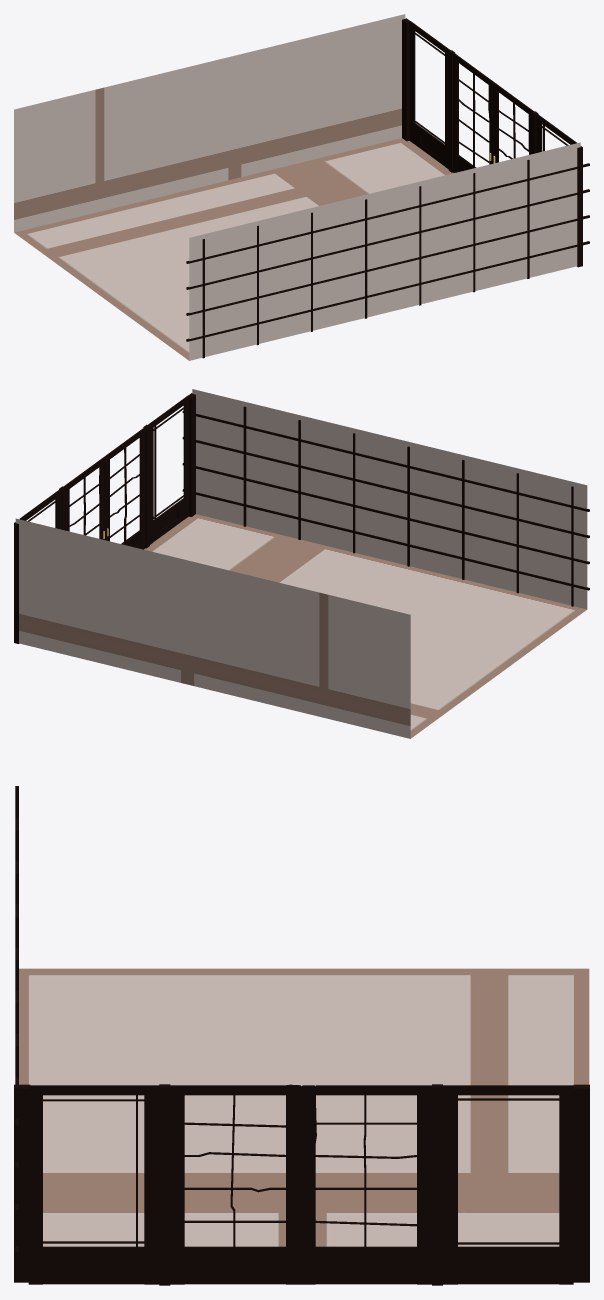
Rendered from wallsJ.FBX.
3 renders of one model, top to bottom at view 1: azimuth 30°, elevation 25°; view 2: azimuth 150°, elevation 25°; view 3: azimuth 270°, elevation 25°, orthographic. The views are drawn at different scales.
Visible parts, largest first — view 1: walls_J; view 2: walls_J; view 3: walls_J.
Part boxes in pixels (<box>): walls_J: <box>14,14,589,360</box>; walls_J: <box>14,389,589,738</box>; walls_J: <box>14,786,589,1285</box>.
Size of the model in its own units: 637 by 189 by 483.
